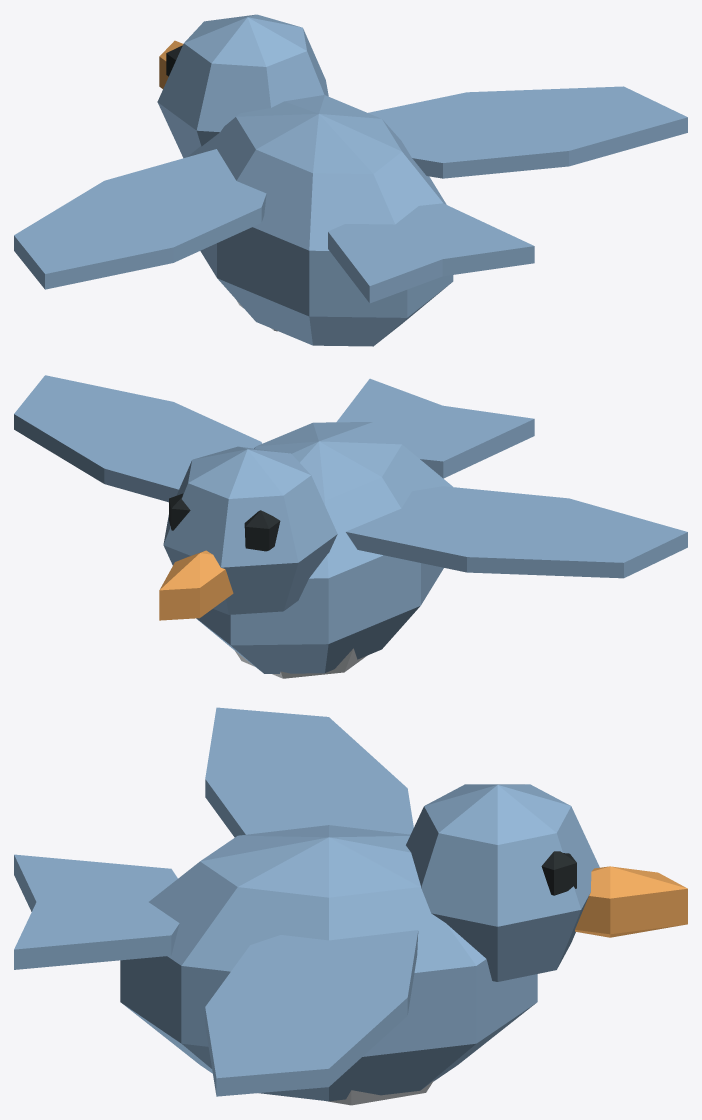
File: xy_bg_bird.glb
3 views of the same model, one above another, from view 1: azimuth 30°, elevation 25°; view 2: azimuth 150°, elevation 25°; view 3: azimuth 270°, elevation 25° (orthographic). The views are drawn at different scales.
Parts seen in each view (by area): view 1: Body, WingR, WingL; view 2: Body, WingR, WingL; view 3: Body, WingL, WingR.
Part boxes in pixels (bbox=[...]): Body: bbox=[157, 14, 534, 346]; WingR: bbox=[14, 149, 266, 289]; WingL: bbox=[368, 86, 687, 178]; Body: bbox=[159, 378, 534, 678]; WingR: bbox=[346, 486, 687, 578]; WingL: bbox=[14, 375, 262, 502]; Body: bbox=[14, 784, 687, 1105]; WingL: bbox=[205, 930, 418, 1096]; WingR: bbox=[205, 707, 413, 837].
Bounding box in the file's own units: 0.78 × 0.305 × 0.5992.
